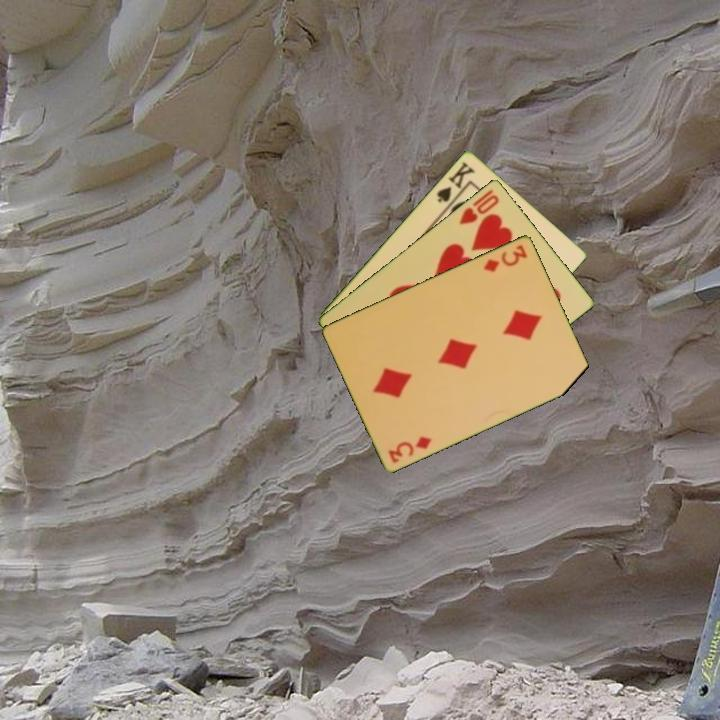10h: (455, 185, 502, 227)
3d: (480, 240, 530, 275), (385, 432, 434, 465)
Ks: (433, 158, 478, 210)
